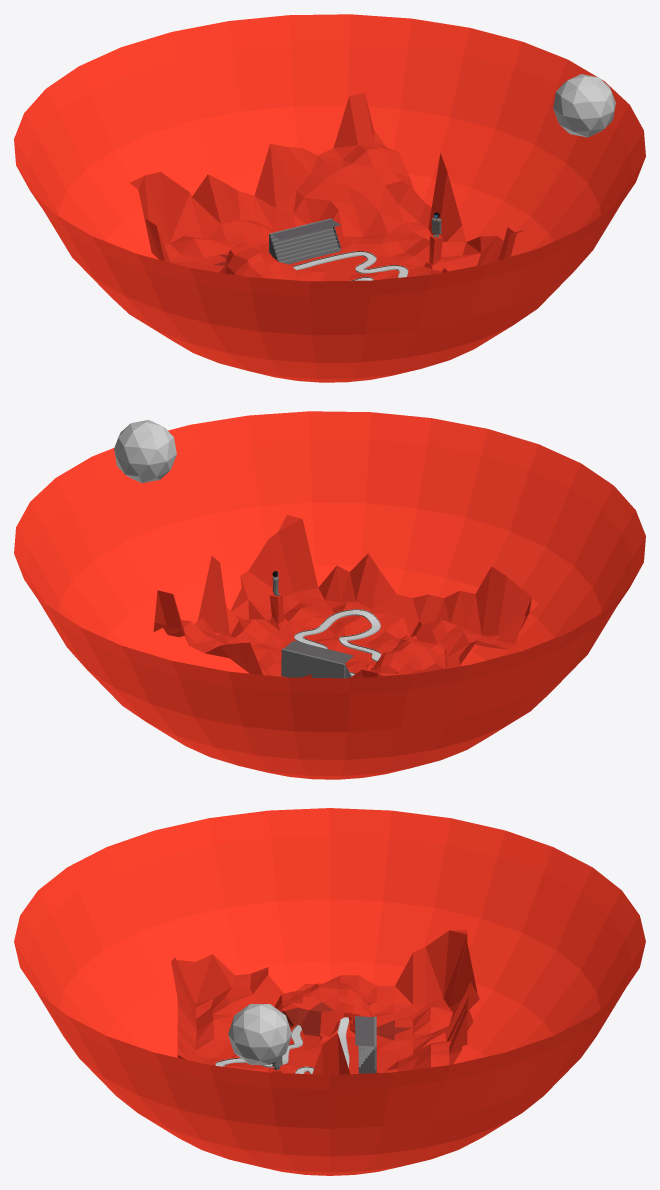
Rendered from ExportedBlenderFBXFile.fbx.
The picture shows the model from 3 angles, top to bottom: view 1: azimuth 30°, elevation 25°; view 2: azimuth 150°, elevation 25°; view 3: azimuth 270°, elevation 25°; orthographic projection.
Parts seen in each view (by area): view 1: Sphere, Plane, Icosphere, Cube; view 2: Sphere, Plane, Icosphere, Cube; view 3: Sphere, Plane, Icosphere, Cube.
Boxes of the visible parts, bbox=[...] form: Sphere: bbox=[14, 14, 645, 382]; Plane: bbox=[129, 92, 524, 281]; Icosphere: bbox=[553, 74, 615, 137]; Cube: bbox=[292, 251, 408, 280]; Sphere: bbox=[14, 411, 645, 779]; Plane: bbox=[153, 515, 538, 678]; Icosphere: bbox=[114, 420, 176, 483]; Cube: bbox=[294, 609, 380, 676]; Sphere: bbox=[14, 808, 645, 1175]; Plane: bbox=[171, 930, 479, 1074]; Icosphere: bbox=[228, 1004, 291, 1064]; Cube: bbox=[215, 1017, 349, 1074].
Size of the model in its own units: 598 by 258 by 598.
